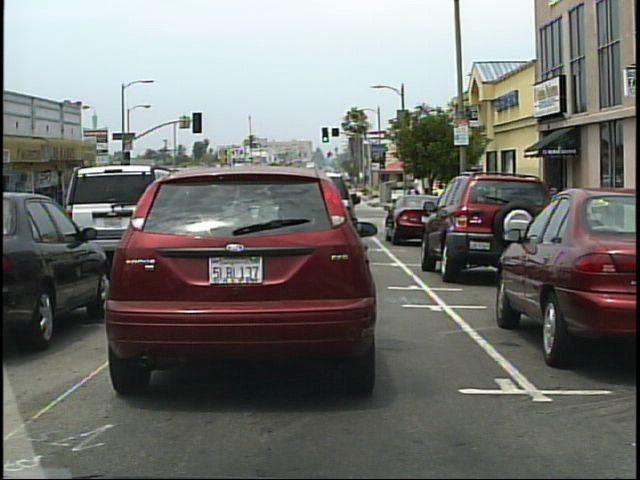person: (403, 188, 415, 221), (413, 188, 422, 220)
